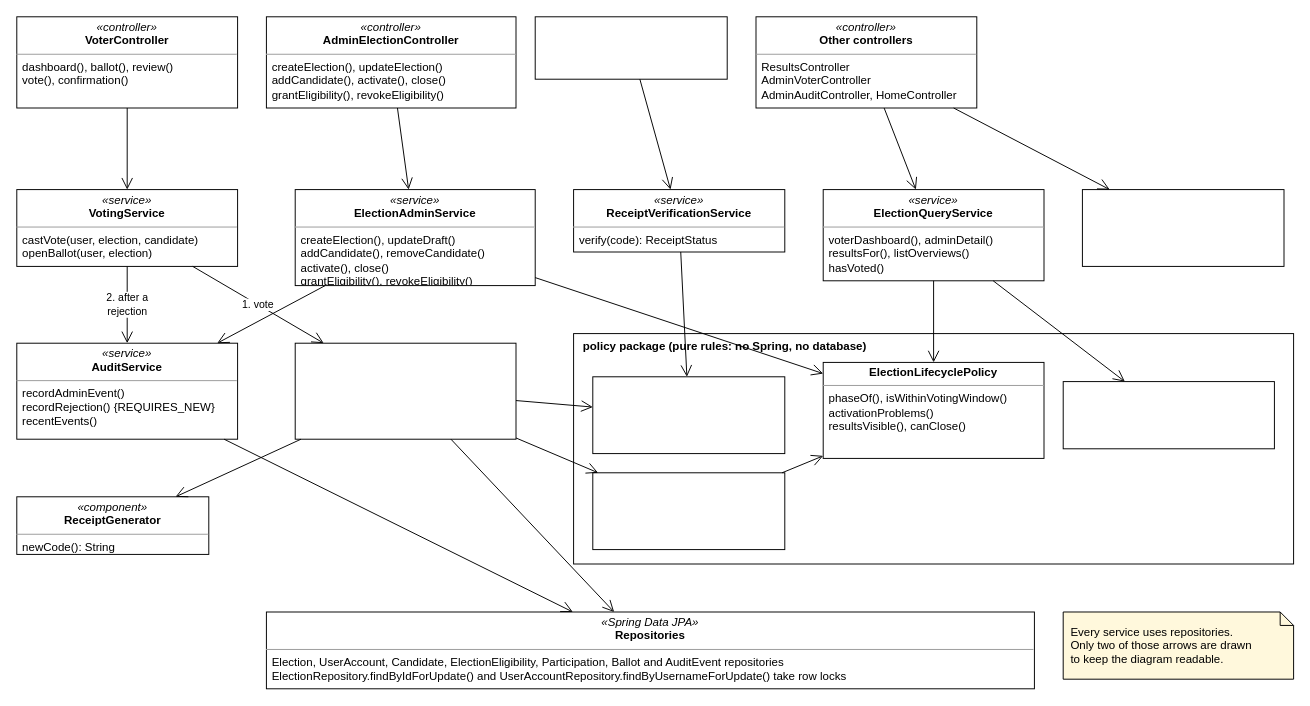
Some shapes in this 1310 by 706 pixel diagram are drawn without their labels. Each missing label, with the centre of its shape:
ReceiptCodec encode(), format() normalize(), hash(): [688,415]
TallyCalculator tally(candidates, ballots) percent(): [1168,415]
VotingPolicy evaluate(VoteContext) evaluateAccess(VoteContext): [688,511]
«component» VoteTransaction castVote() {transactional} loadBallot() {read only}: [405,390]
«controller» ReceiptController verify(code): [630,47]
«service» UserAdminService createVoter() setVoterEnabled(): [1182,227]
